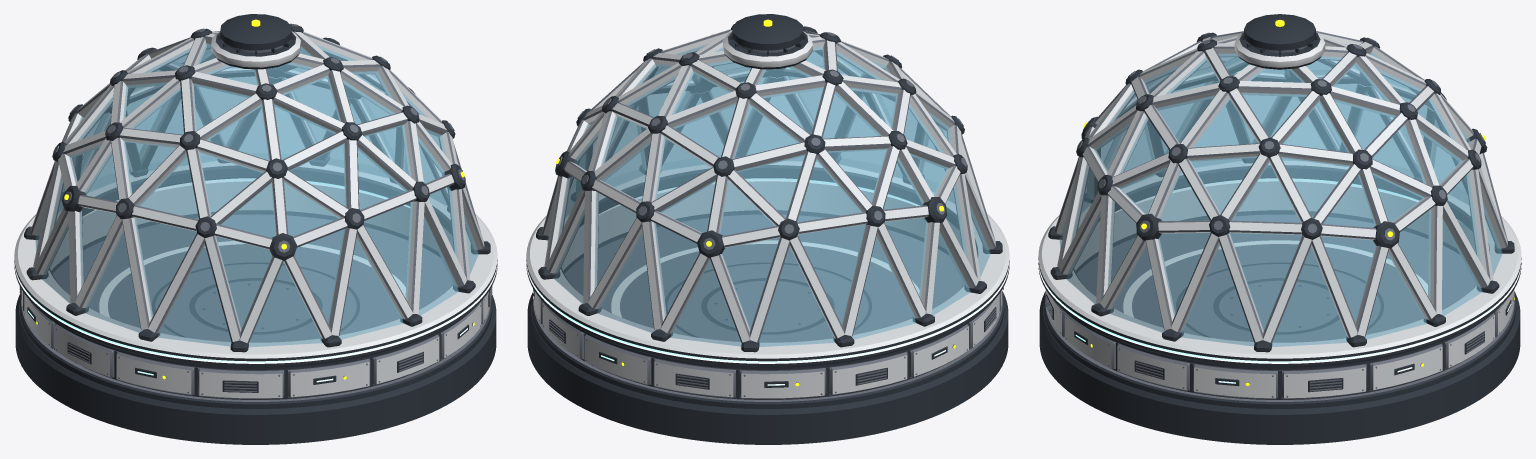
Rendered from Dome_8m.fbx.
3 renders of one model, left to right at view 1: azimuth 30°, elevation 25°; view 2: azimuth 150°, elevation 25°; view 3: azimuth 270°, elevation 25°, orthographic.
Parts seen in each view (by area): view 1: Dome_Frame, Dome_Glass, Dome_Base, Dome_Wall; view 2: Dome_Frame, Dome_Glass, Dome_Base, Dome_Wall; view 3: Dome_Frame, Dome_Glass, Dome_Base, Dome_Wall.
Part boxes in pixels (x1,y1,x2,y2): Dome_Frame: (14,14,497,367); Dome_Glass: (35,43,478,347); Dome_Base: (15,214,496,444); Dome_Wall: (19,178,492,408); Dome_Frame: (526,14,1009,367); Dome_Glass: (547,43,990,346); Dome_Base: (527,215,1008,444); Dome_Wall: (531,178,1004,408); Dome_Frame: (1038,14,1521,367); Dome_Glass: (1059,44,1502,347); Dome_Base: (1039,215,1520,444); Dome_Wall: (1043,178,1516,408).
Size of the model in its own units: 8.32 by 6.15 by 8.32.
